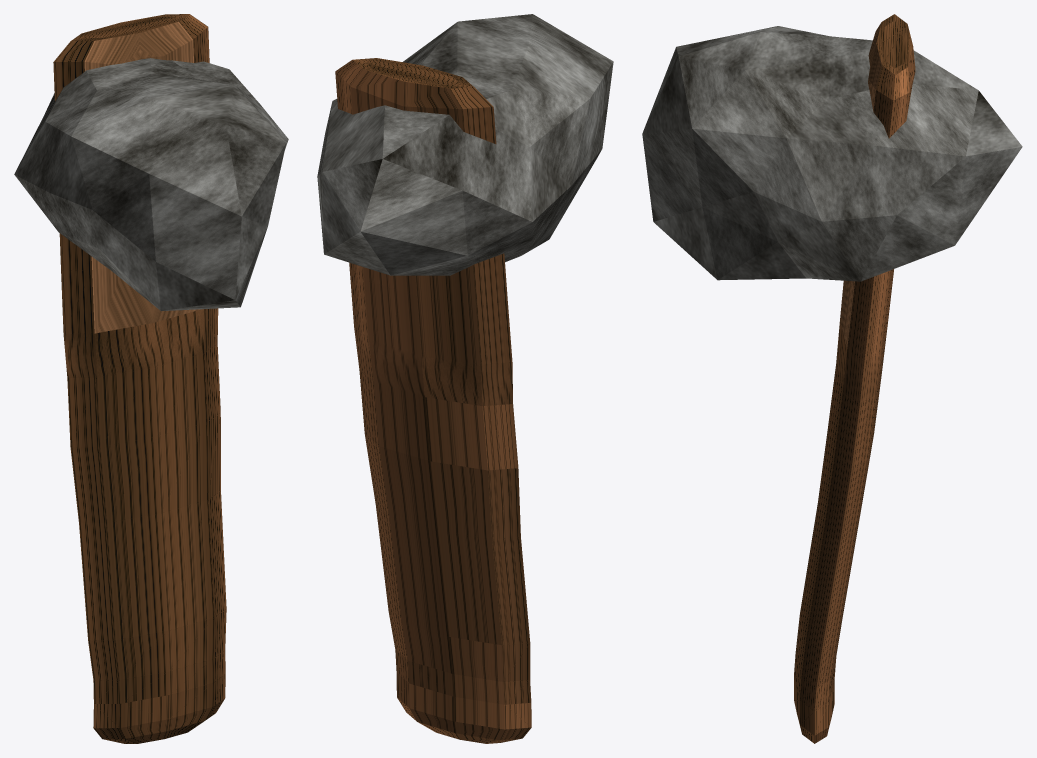
File: StoneAxe_Textured.obj
3 renders of one model, left to right at view 1: azimuth 30°, elevation 25°; view 2: azimuth 150°, elevation 25°; view 3: azimuth 270°, elevation 25°, orthographic.
Parts seen in each view (by area): view 1: Wooden_Handle, Flint_Head, Leather_Bindings; view 2: Wooden_Handle, Flint_Head; view 3: Flint_Head, Wooden_Handle, Leather_Bindings.
Boxes of the visible parts, bbox=[...] form: Wooden_Handle: bbox=[53, 14, 226, 743]; Flint_Head: bbox=[14, 58, 288, 311]; Leather_Bindings: bbox=[84, 22, 200, 333]; Wooden_Handle: bbox=[335, 58, 531, 743]; Flint_Head: bbox=[317, 14, 613, 275]; Flint_Head: bbox=[642, 26, 1022, 281]; Wooden_Handle: bbox=[794, 14, 915, 743]; Leather_Bindings: bbox=[840, 22, 881, 348].
Size of the model in its own units: 0.463 by 1.25 by 0.6264.
Materials: 3 (3 with a texture image).
